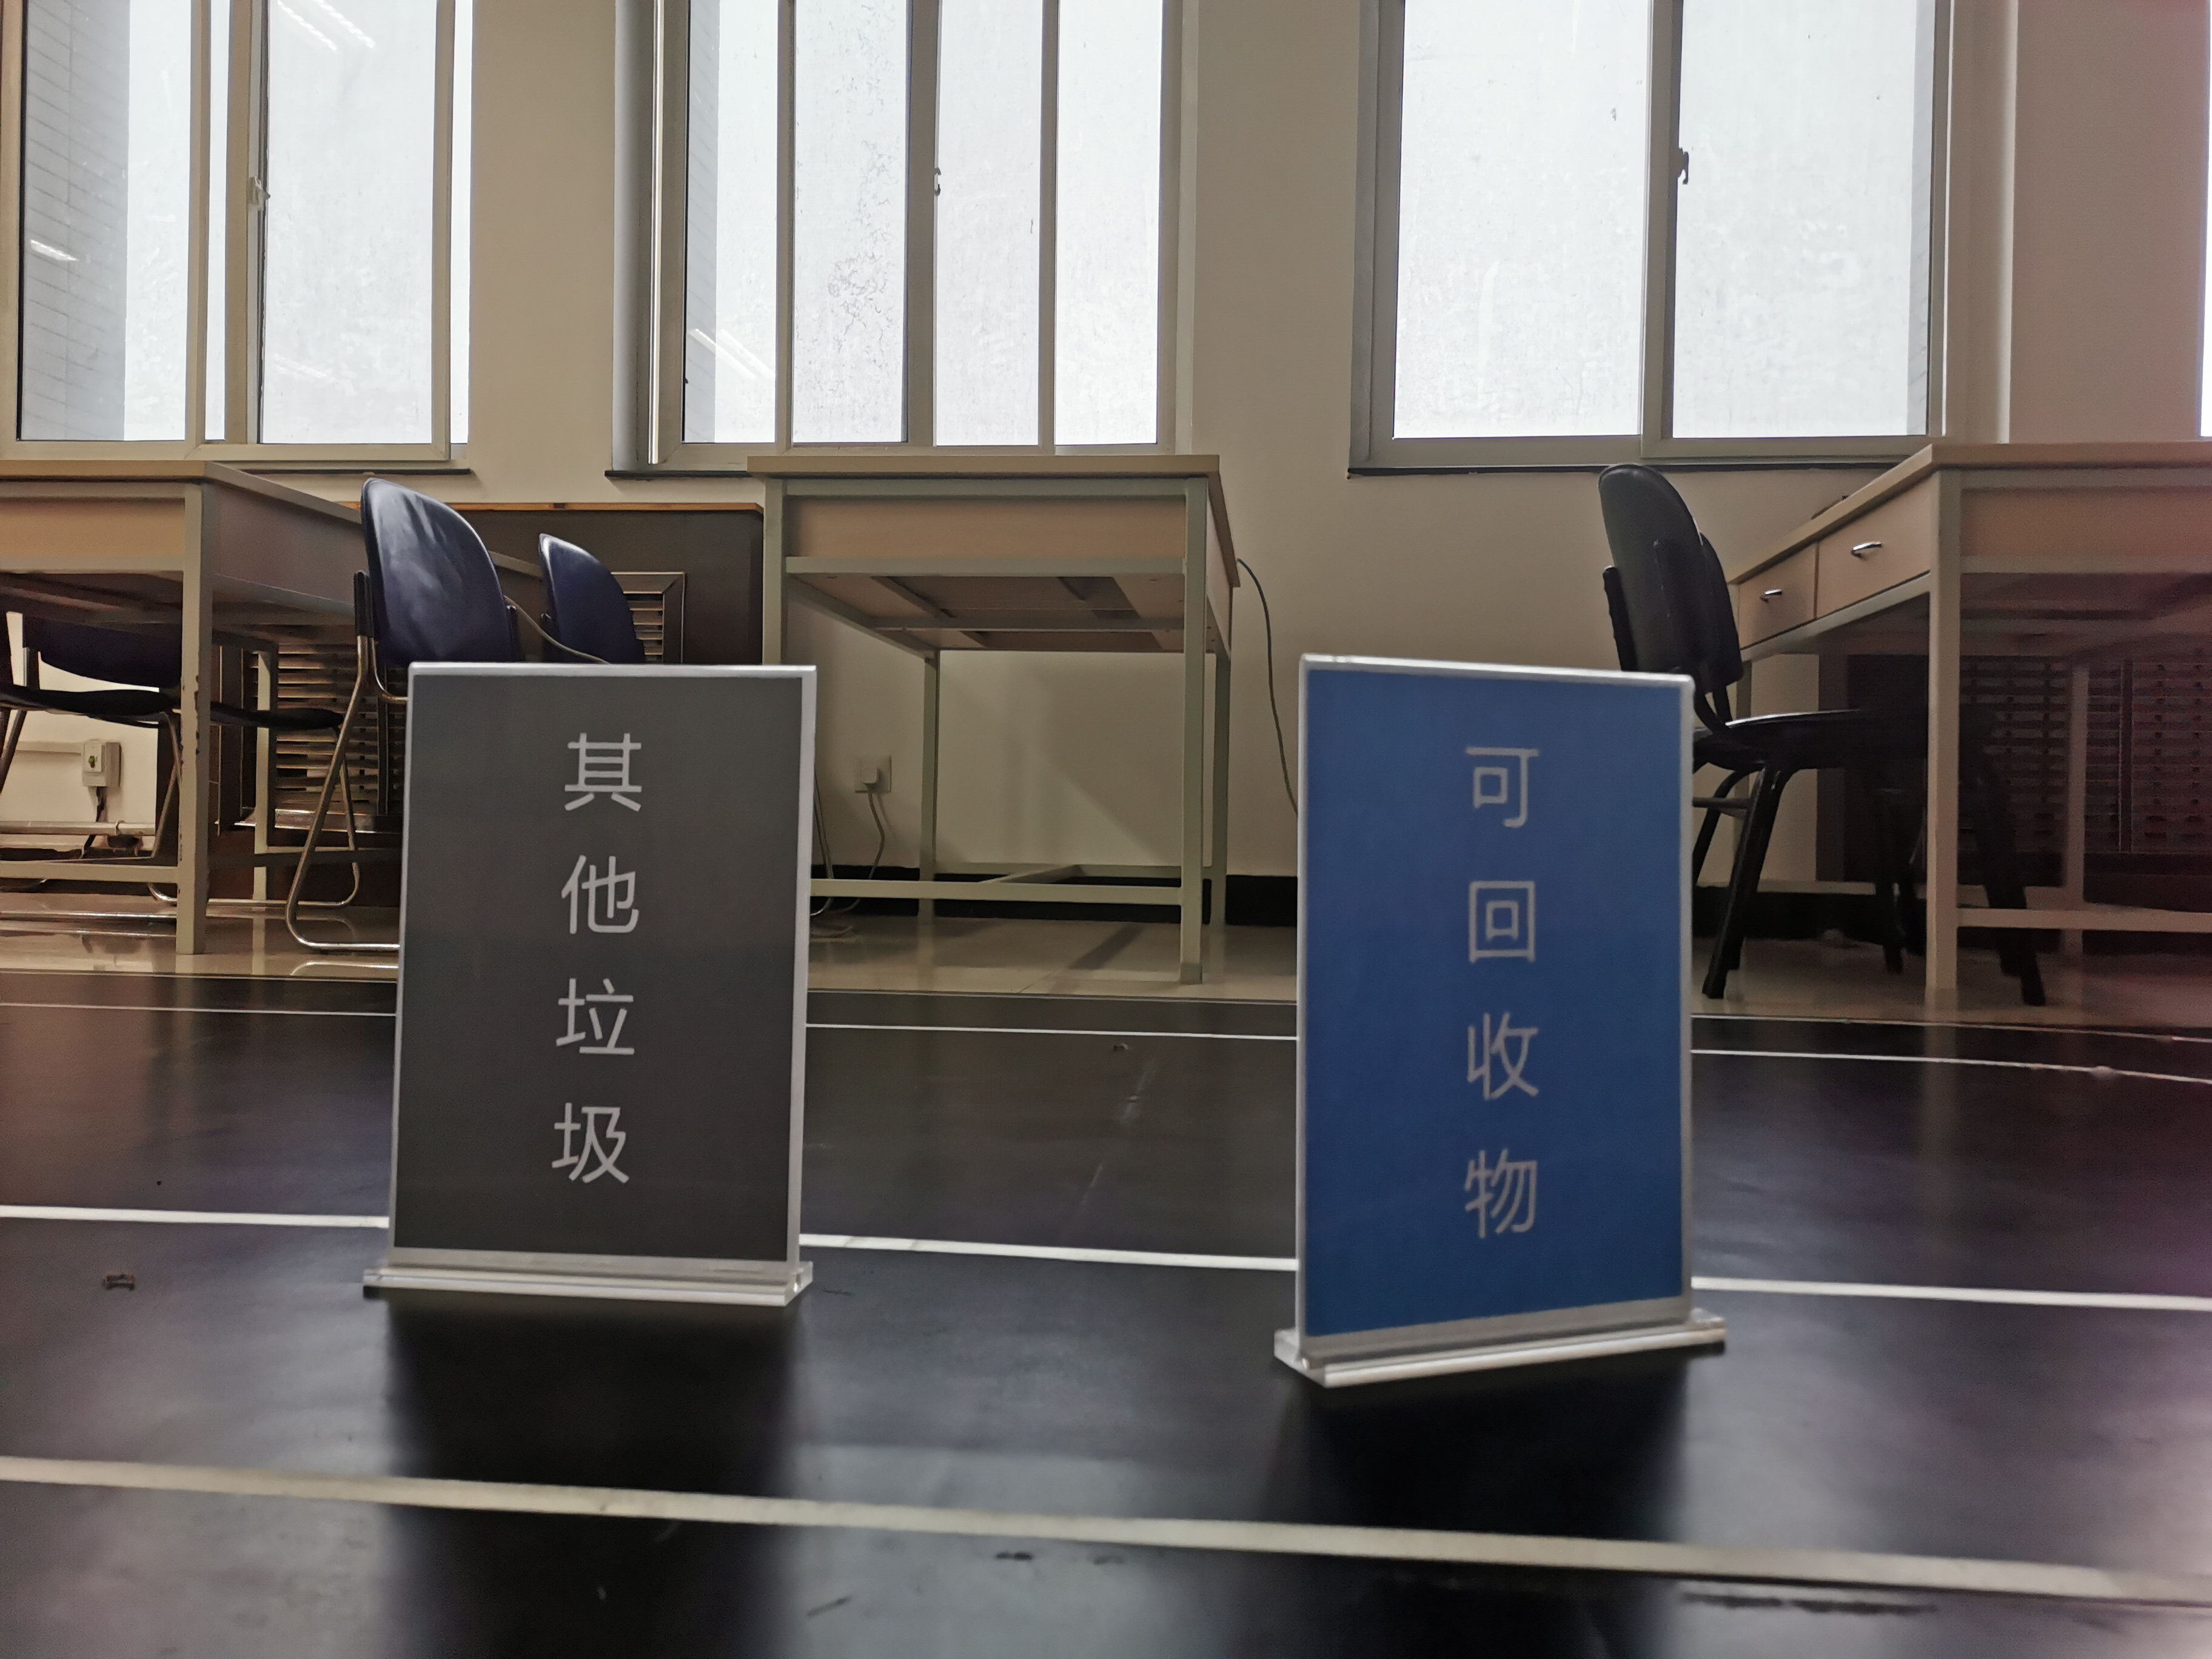black: (420, 685, 782, 1244)
blue: (1327, 695, 1674, 1290)
